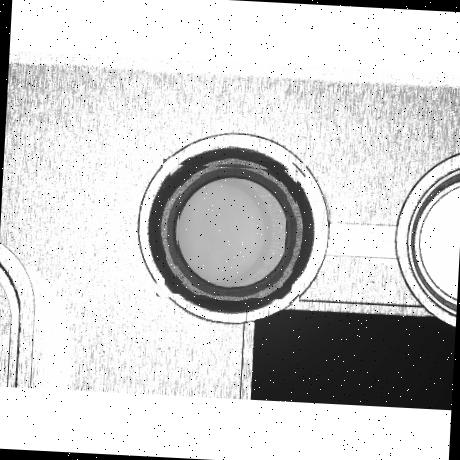Hole: (144, 144, 318, 316)
Hole2: (154, 154, 306, 304)
Hole3: (162, 162, 298, 300)
Hole4: (174, 174, 288, 288)
